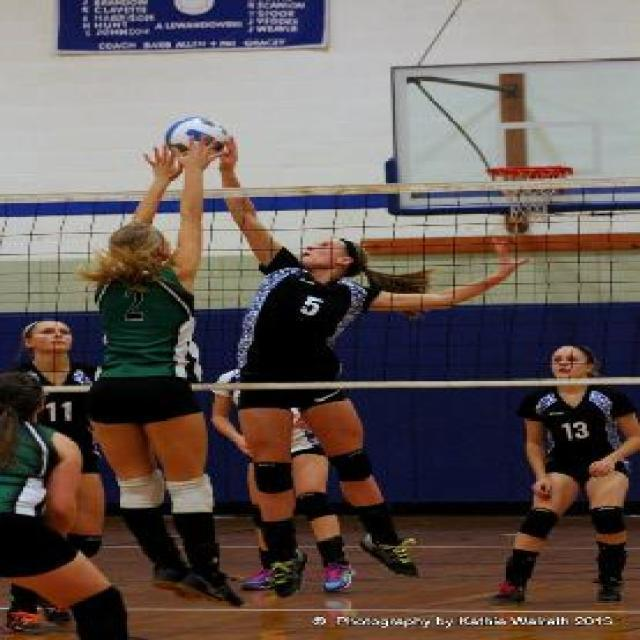volleyball: (167, 116, 230, 156)
